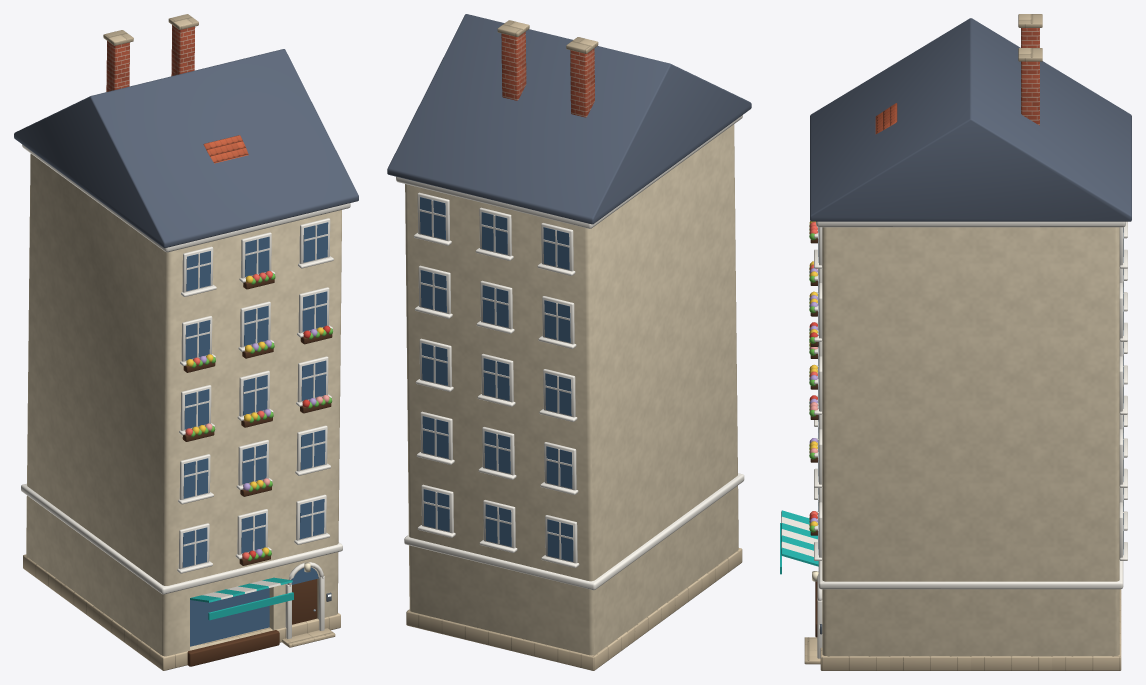
Rendered from house_d.gltf.
The picture shows the model from 3 angles, left to right: view 1: azimuth 30°, elevation 25°; view 2: azimuth 150°, elevation 25°; view 3: azimuth 270°, elevation 25°; orthographic projection. The views are drawn at different scales.
Visible parts, largest first — view 1: house_d_mesh, INT_door_house_d_0; view 2: house_d_mesh; view 3: house_d_mesh.
Boxes of the visible parts, x1,y1,x2,y2 form: house_d_mesh: [14, 14, 358, 670]; INT_door_house_d_0: [292, 579, 317, 624]; house_d_mesh: [387, 14, 751, 670]; house_d_mesh: [780, 14, 1131, 670].
Size of what is drawn, in the model's own units: 8.96 by 23.98 by 13.01.
Materials: 23 (4 with a texture image).
